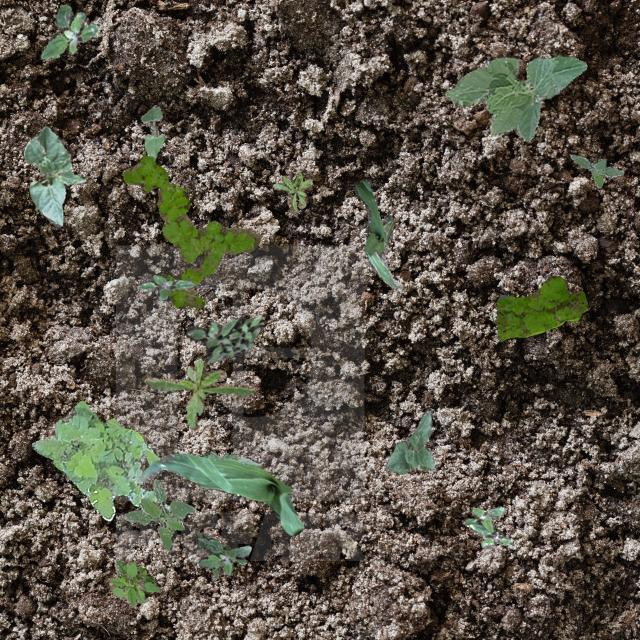crop: (138, 452, 302, 534), (444, 54, 586, 140), (22, 126, 84, 226), (352, 180, 402, 290), (384, 409, 436, 474), (140, 105, 164, 156), (201, 450, 259, 466)
weed: (123, 152, 260, 308), (31, 400, 169, 520), (144, 358, 254, 428), (496, 274, 586, 340), (122, 478, 194, 550), (185, 314, 262, 362), (40, 4, 98, 59), (194, 530, 250, 576), (106, 560, 158, 606), (464, 506, 512, 548), (570, 154, 622, 186), (272, 172, 312, 212), (138, 274, 194, 298)
